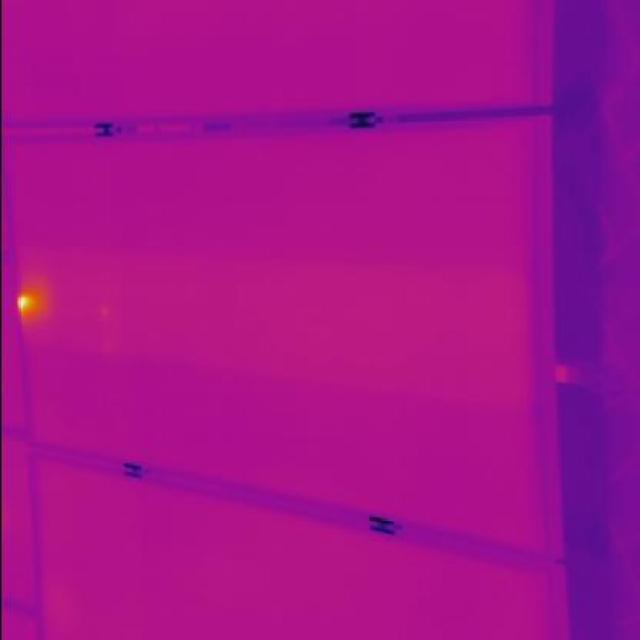hotspot: (9, 289, 34, 316)
